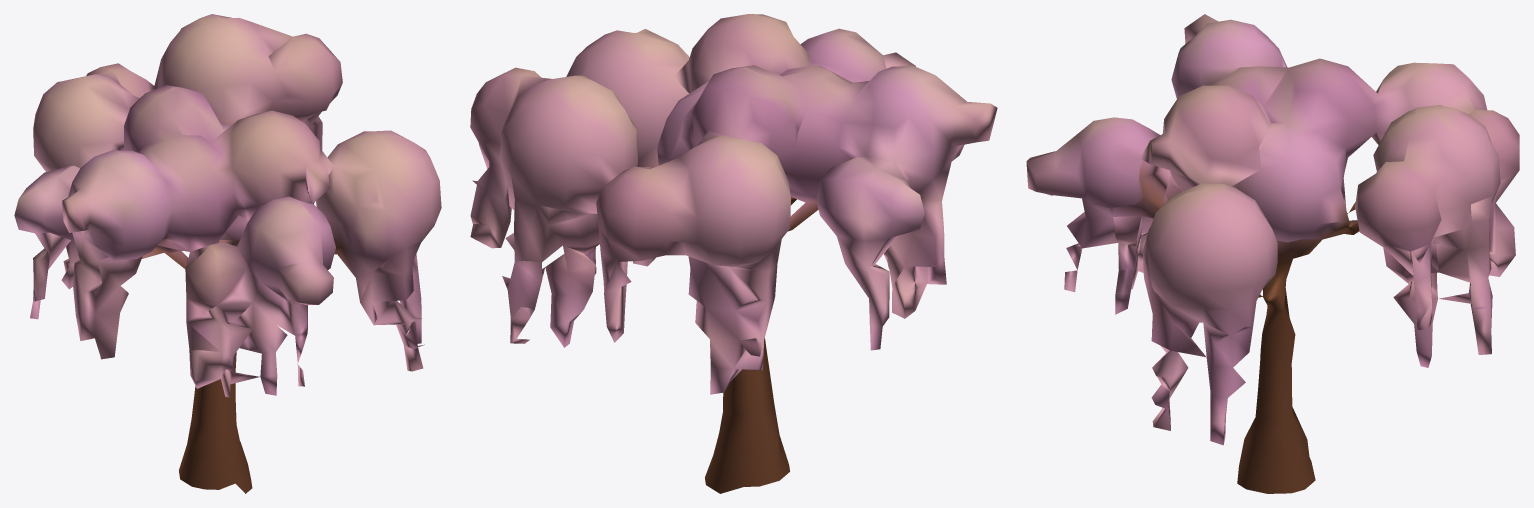
File: weeping-tree-1-lod2.obj
3 views of the same model, side by side, from view 1: azimuth 30°, elevation 25°; view 2: azimuth 150°, elevation 25°; view 3: azimuth 270°, elevation 25° (orthographic). The views are drawn at different scales.
Visible parts, largest first — view 1: simplified; view 2: simplified; view 3: simplified.
Part boxes in pixels (<box>): simplified: <box>14,14,441,493</box>; simplified: <box>470,14,997,493</box>; simplified: <box>1026,14,1519,493</box>.
Bounding box in the file's own units: 375 × 379 × 414.
